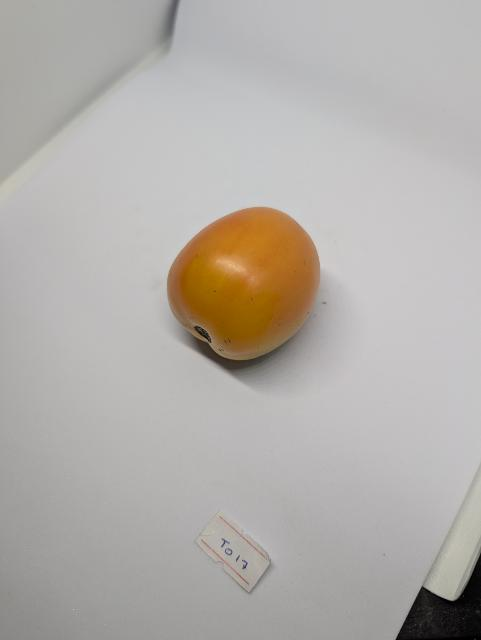turning: (161, 190, 333, 378)
